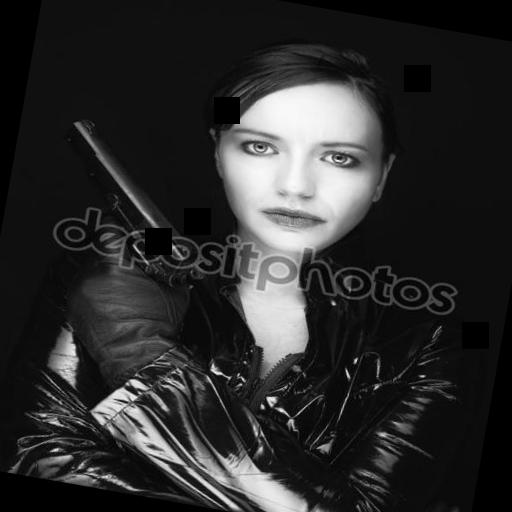Handgun: (38, 112, 228, 292)
